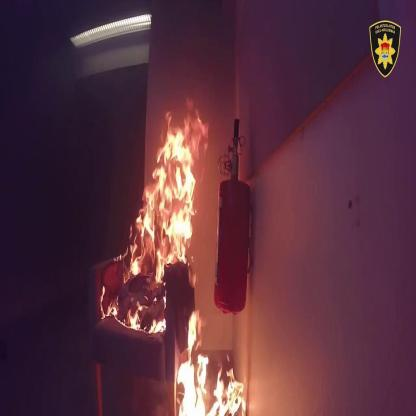Fire: (100, 78, 206, 335), (172, 304, 246, 416)
